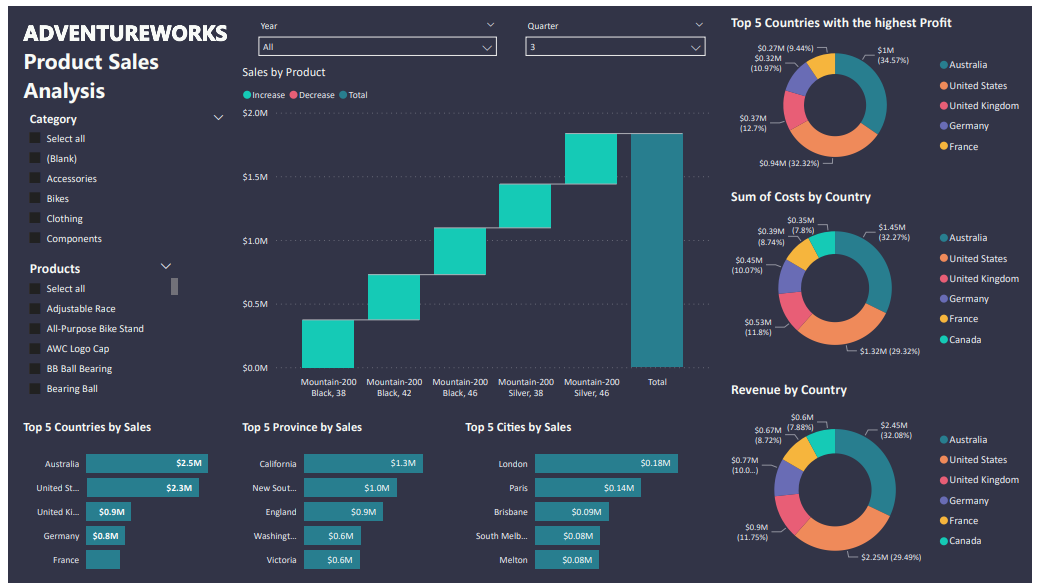

Layout of this report page (visuals, bound fields, positions):
{"tool":"powerbi","page":{"name":"Product Sales Analysis","canvas":[1280,720],"ordinal":0},"visuals":[{"type":"textbox","box":[11.4,5.7,274,128.4],"z":0},{"type":"slicer","fields":{"Values":["Product.ProductName"]},"box":[11.4,308.2,208.3,191.2],"z":1000},{"type":"slicer","fields":{"Values":["ProductCategory.ProductCategory"]},"box":[11.4,122.7,274,186.9],"z":2000},{"type":"clusteredBarChart","title":"Top 5 Countries by Sales","fields":{"Category":["Geography.Country"],"Y":["Sum(Sales.Sales)"]},"box":[11.4,512.3,288.2,208.3],"z":3000},{"type":"clusteredBarChart","title":"Top 5 Province by Sales","fields":{"Category":["Geography.Province"],"Y":["Sum(Sales.Sales)"]},"box":[285.4,512.3,278.3,208.3],"z":4000},{"type":"clusteredBarChart","title":"Top 5 Cities by Sales","fields":{"Category":["Geography.City"],"Y":["Sum(Sales.Sales)"]},"box":[563.7,512.3,319.6,208.3],"z":5000},{"type":"waterfallChart","title":"Sales by Product","fields":{"Category":["Product.ProductName"],"Y":["Sum(Sales.Sales)"]},"box":[284.9,69.4,599.5,429.4],"z":6000},{"type":"donutChart","title":"Top 5 Countries with the highest Profit","fields":{"Y":["DAX Measures.Profit"],"Category":["Geography.Country"]},"box":[896.2,6.2,383.8,210.5],"z":7000},{"type":"donutChart","fields":{"Y":["Sum(Sales.Costs)"],"Category":["Geography.Country"]},"box":[896.2,222.9,383.8,233.7],"z":8000},{"type":"donutChart","fields":{"Y":["DAX Measures.Revenue"],"Category":["Geography.Country"]},"box":[896.2,464.3,383.8,255.4],"z":9000},{"type":"slicer","fields":{"Values":["Date.Quarter"]},"box":[633.6,8.6,251.1,61.4],"z":10000},{"type":"slicer","fields":{"Values":["Date.Year"]},"box":[299.7,8.6,323.9,61.4],"z":11000}]}

Visuals, with their boxes in screenshot pixels (x1, y1, x2, y2), scaled from the page's 1280x720 canvas onto the 1037x586 screenshot:
textbox: BBox(9, 5, 231, 109)
slicer - Product.ProductName: BBox(9, 251, 178, 406)
slicer - ProductCategory.ProductCategory: BBox(9, 100, 231, 252)
"Top 5 Countries by Sales" clusteredBarChart: BBox(9, 417, 243, 585)
"Top 5 Province by Sales" clusteredBarChart: BBox(231, 417, 457, 585)
"Top 5 Cities by Sales" clusteredBarChart: BBox(457, 417, 716, 585)
"Sales by Product" waterfallChart: BBox(231, 56, 717, 406)
"Top 5 Countries with the highest Profit" donutChart: BBox(726, 5, 1036, 176)
donutChart - Sum(Sales.Costs) x Geography.Country: BBox(726, 181, 1036, 372)
donutChart - DAX Measures.Revenue x Geography.Country: BBox(726, 378, 1036, 585)
slicer - Date.Quarter: BBox(513, 7, 717, 57)
slicer - Date.Year: BBox(243, 7, 505, 57)
